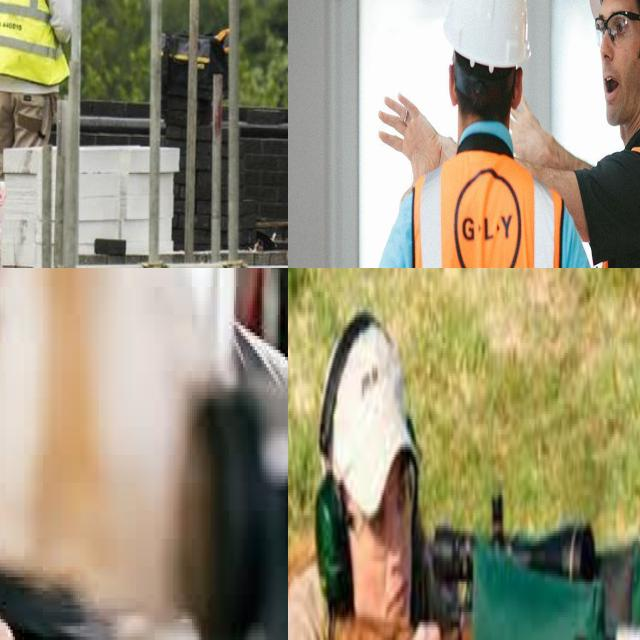Ear-protection: (316, 316, 429, 640)
No_Ear-Protection: (509, 63, 527, 114), (446, 58, 461, 108)
face_nomask: (586, 0, 640, 124)
glasses: (591, 9, 635, 53)
hand_noglove: (371, 78, 452, 200), (508, 96, 562, 160)
head_helmet: (444, 0, 537, 72), (590, 0, 640, 75)
person: (288, 269, 463, 640), (394, 0, 577, 268), (575, 0, 640, 268), (0, 0, 68, 160)
vest: (410, 146, 571, 268), (578, 136, 640, 268), (0, 0, 72, 86)
